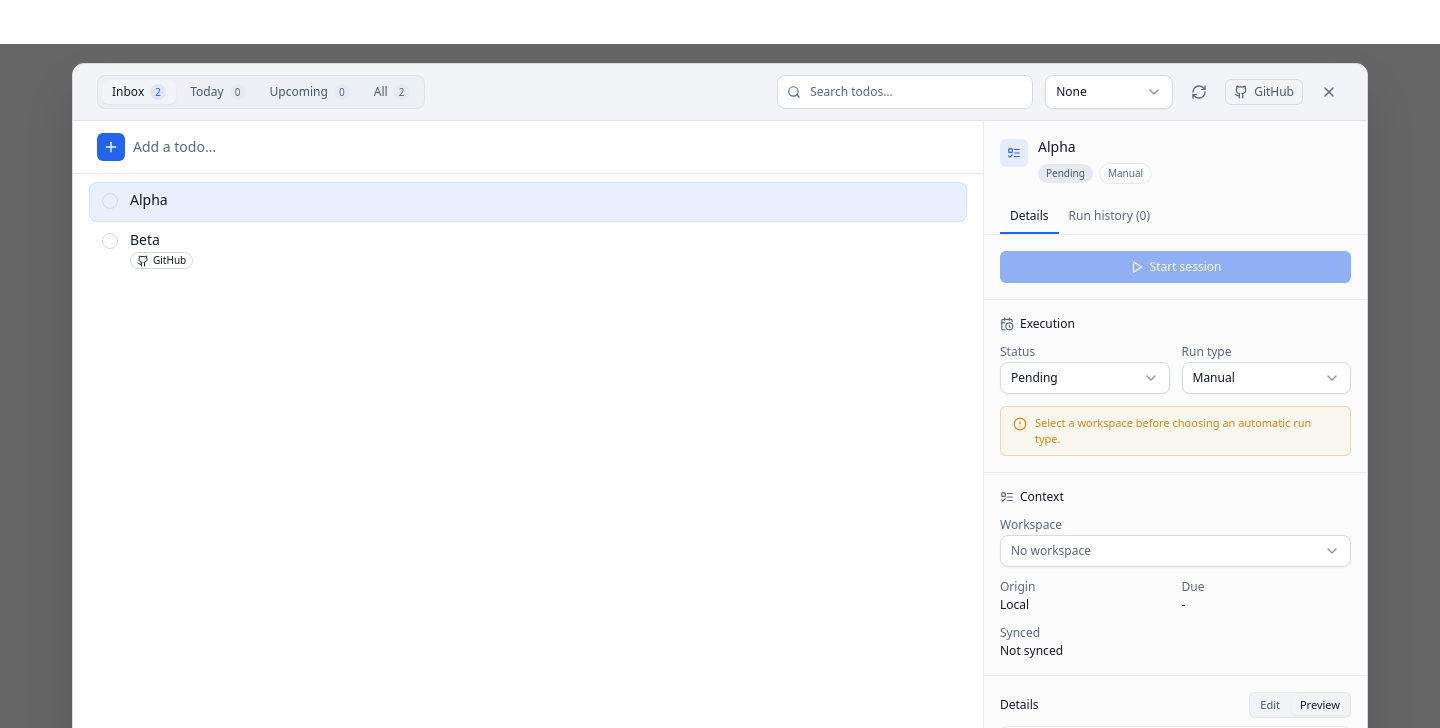
TodosPanel — header restructure and rail removal (U1) › switches grouping via the header group-by select
Check: the text "Alpha" is shown, box top-left (130, 190), bottom-right (168, 208)
Step 1. Click the dropdown named "Group by" → (1109, 92), box top-left (1045, 74), bottom-right (1173, 108)
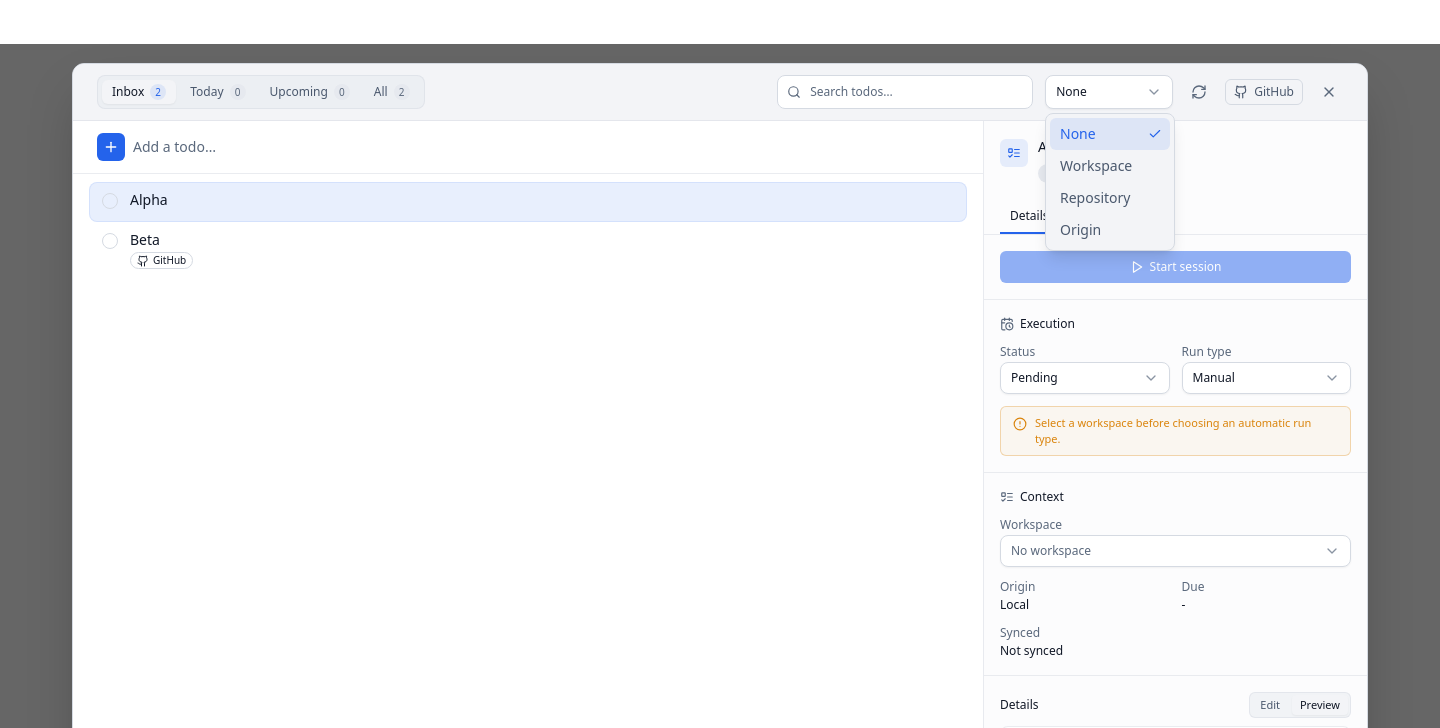
Step 2. Click the option "Origin" → (1081, 230), box top-left (1060, 220), bottom-right (1101, 239)
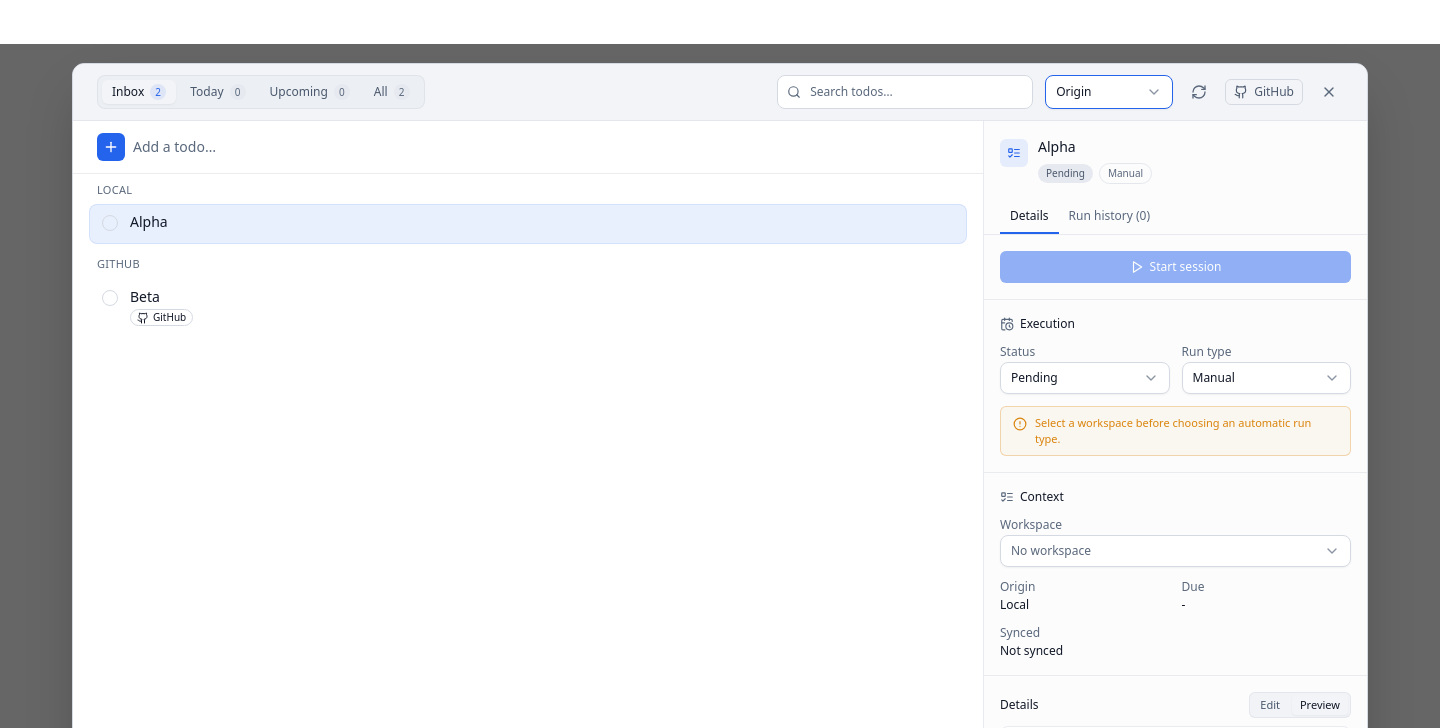
Check: the heading "Local" is shown, box top-left (97, 182), bottom-right (132, 196)
Check: the heading "GitHub" is shown, box top-left (97, 256), bottom-right (140, 271)
